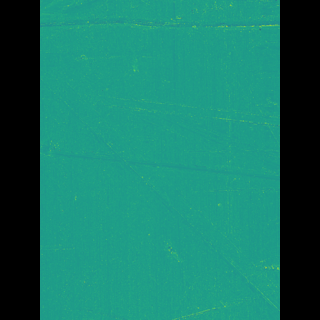Loch: (88, 94, 250, 318), (69, 137, 250, 191), (112, 90, 251, 129), (69, 9, 249, 37)
